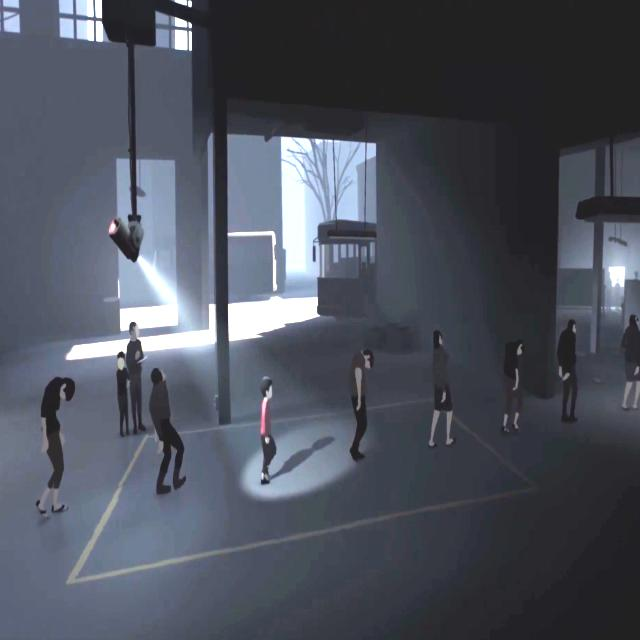boy: (260, 377, 276, 486)
human: (126, 322, 146, 432), (116, 352, 130, 436)
zombie: (36, 376, 76, 521), (147, 366, 187, 495), (429, 330, 455, 450), (350, 348, 374, 462), (559, 320, 580, 423), (502, 339, 524, 435), (620, 315, 640, 413)
